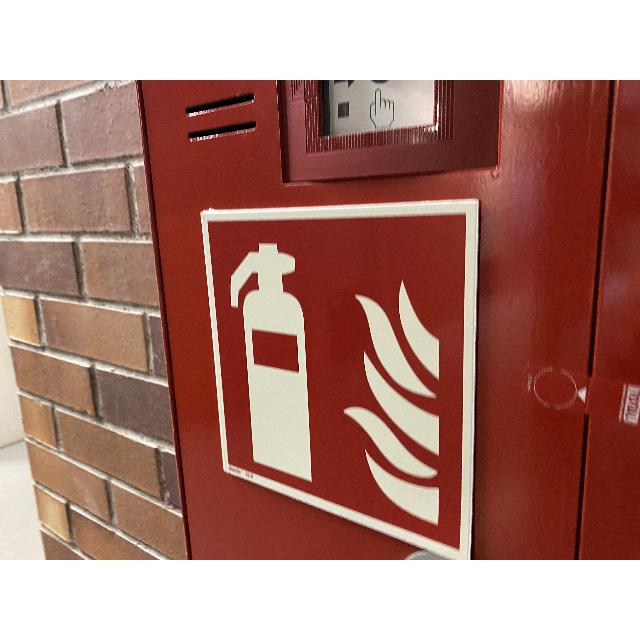fire extinguisher: (201, 198, 479, 560)
